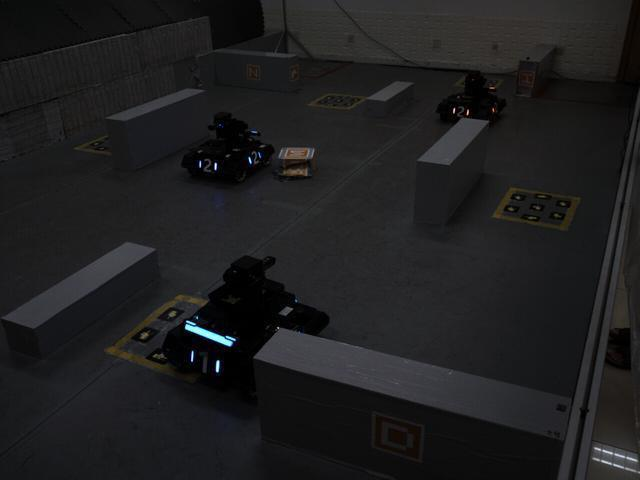armor: (188, 346, 223, 382), (195, 154, 219, 175), (448, 102, 472, 121)
